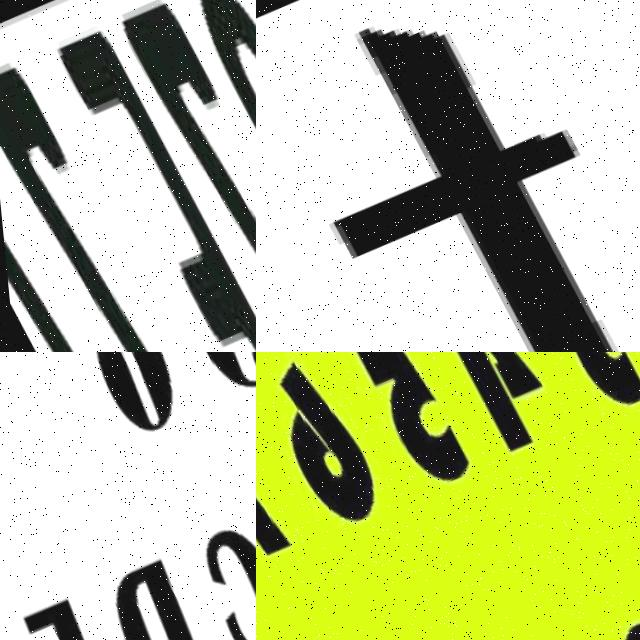0: (42, 352, 210, 456)
3: (508, 352, 640, 426)
4: (411, 352, 571, 460)
5: (315, 352, 481, 506)
6: (256, 352, 401, 549)
7: (0, 50, 256, 352), (100, 0, 256, 352), (256, 363, 311, 593)
9: (150, 352, 256, 414)
E: (47, 17, 256, 352)
S: (158, 0, 256, 352)
T: (256, 0, 640, 352)
Z: (0, 92, 225, 352)
